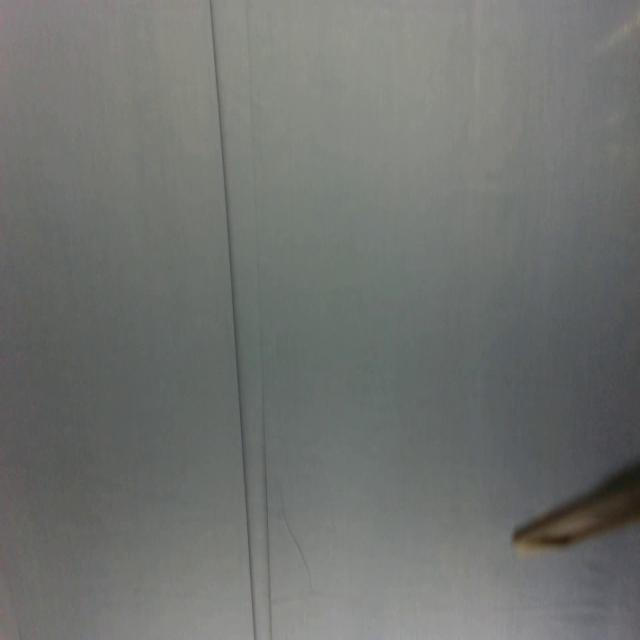crease: (208, 1, 257, 640), (260, 358, 276, 640), (280, 506, 314, 584)
